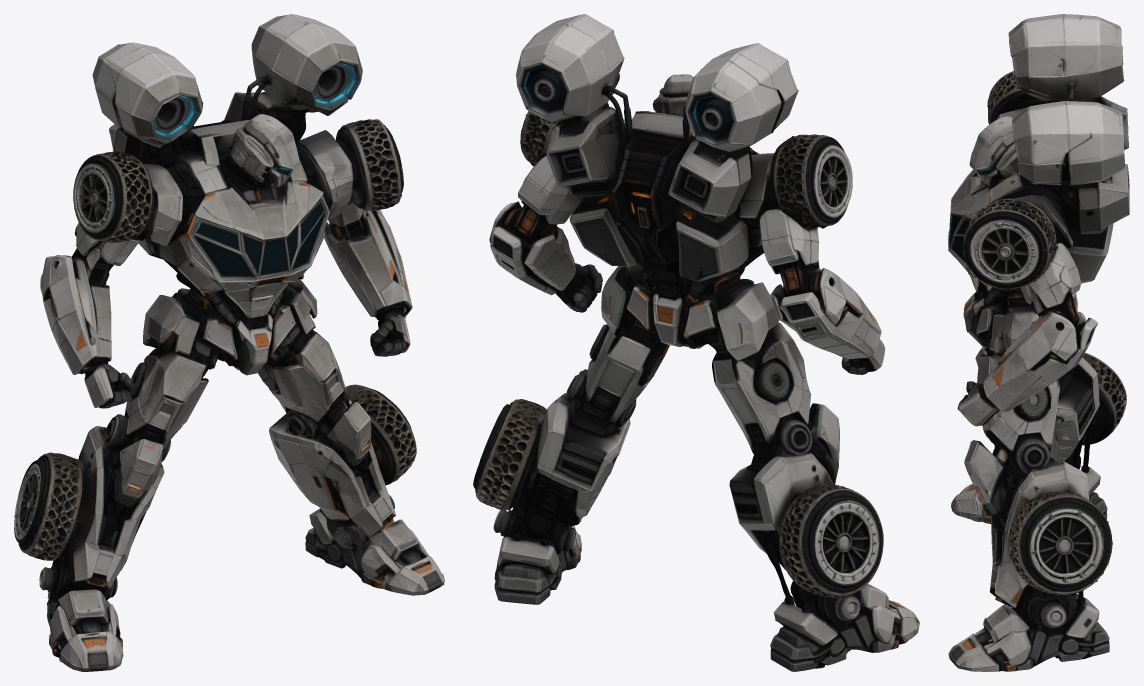
File: mecha.glb
The picture shows the model from 3 angles, left to right: view 1: azimuth 30°, elevation 25°; view 2: azimuth 150°, elevation 25°; view 3: azimuth 270°, elevation 25°; orthographic projection. The views are drawn at different scales.
Size of the model in its own units: 0.712 by 0.9994 by 0.3047.
1 material, 1 textured.
